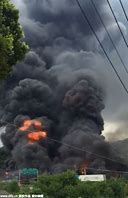smoke: (7, 3, 107, 166)
